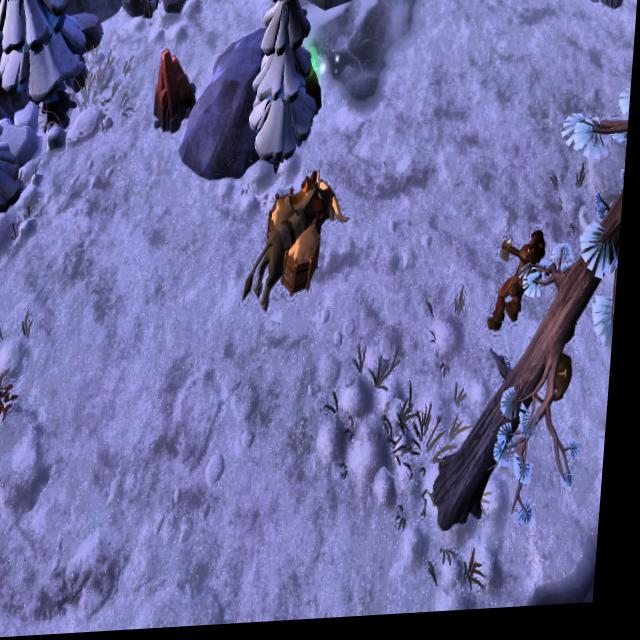enemy_factionKeeper: (493, 225, 548, 346)
rock_t5: (150, 46, 204, 139)
